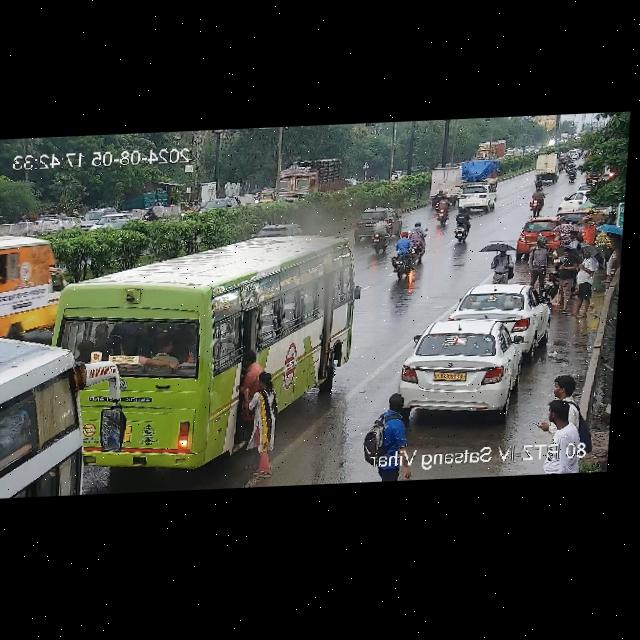bus: (13, 247, 349, 477), (0, 323, 132, 498), (0, 228, 71, 374)
car: (391, 318, 539, 418), (450, 282, 547, 342), (349, 209, 401, 239), (516, 218, 562, 251), (78, 205, 132, 232), (452, 187, 496, 214), (249, 224, 304, 242), (558, 189, 594, 214), (202, 193, 248, 209)
motorcycle: (386, 231, 422, 278), (138, 199, 203, 219), (399, 222, 428, 264), (447, 208, 474, 246), (368, 217, 392, 252), (430, 194, 455, 226), (524, 187, 545, 216), (559, 158, 580, 187)
person: (537, 373, 595, 474), (364, 395, 413, 482), (565, 246, 600, 314), (555, 246, 582, 310), (522, 238, 554, 288), (489, 245, 519, 284), (565, 230, 585, 248)
truck: (266, 163, 343, 205), (424, 161, 503, 198), (532, 151, 560, 187), (470, 138, 507, 160)
